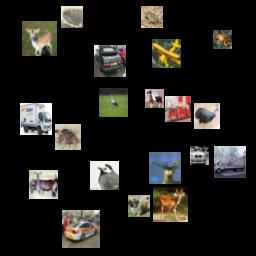airplane: (152, 39, 181, 68)
automobile: (62, 210, 100, 248), (94, 45, 126, 77), (190, 146, 209, 165)
bird: (90, 161, 119, 190), (99, 88, 128, 117), (194, 103, 220, 129)
cat: (55, 124, 81, 150)
deer: (153, 187, 188, 222), (22, 21, 57, 56), (149, 152, 181, 184), (29, 170, 58, 199)
dog: (128, 195, 150, 217)
frog: (141, 6, 163, 28), (213, 30, 232, 49)
ship: (61, 6, 83, 28)
truck: (20, 103, 52, 135), (214, 146, 246, 178), (165, 96, 191, 122)
